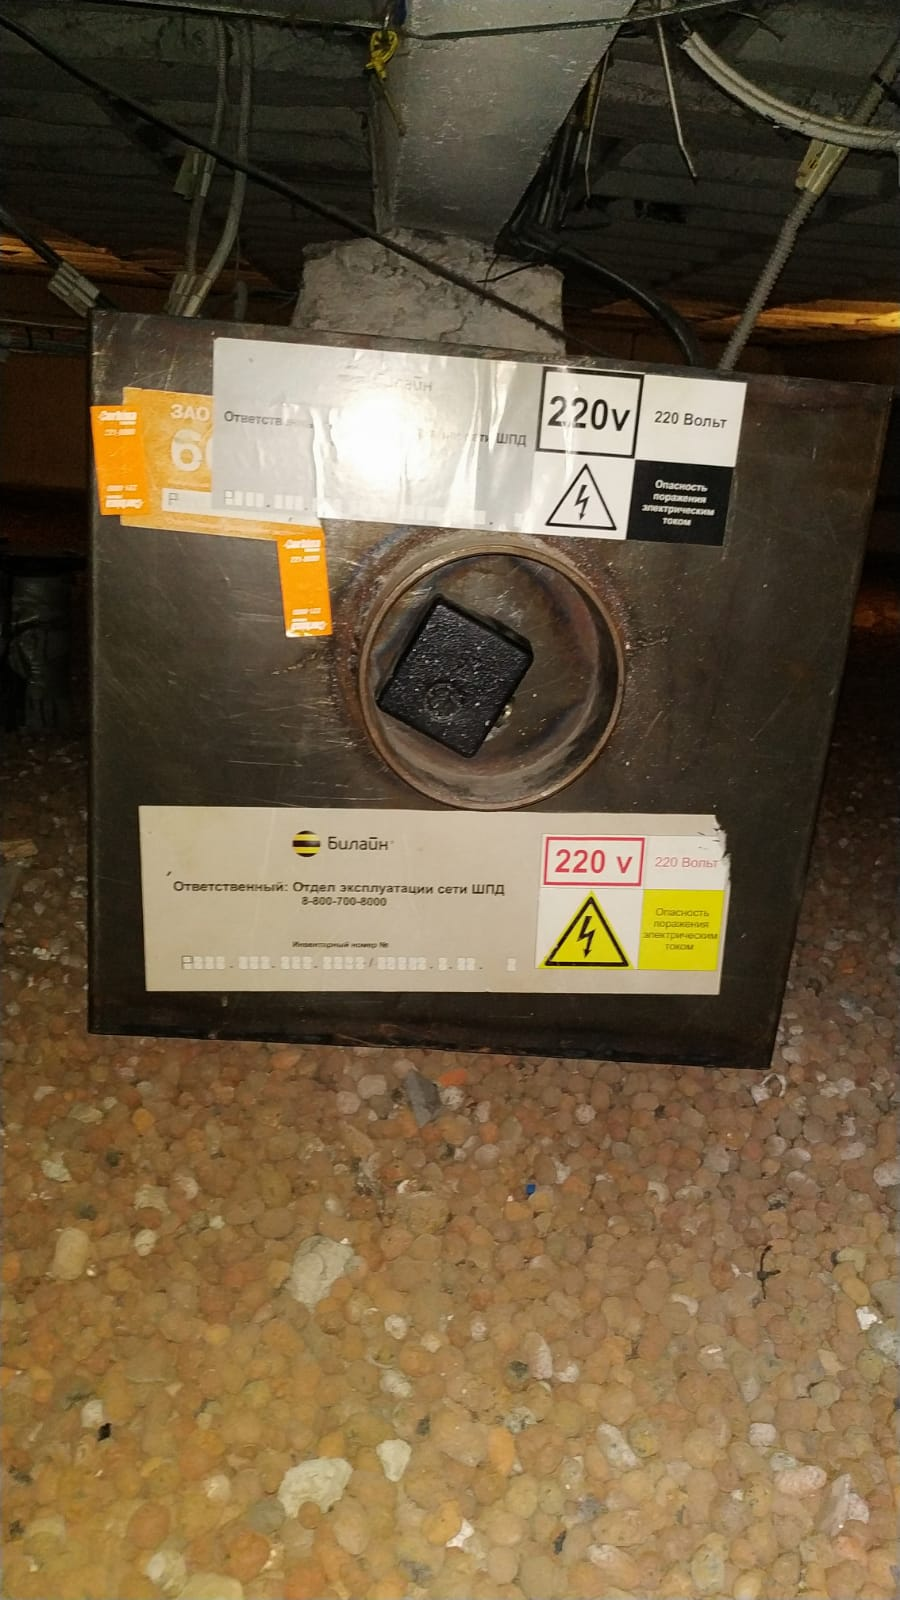shta-9: (79, 300, 895, 1080)
